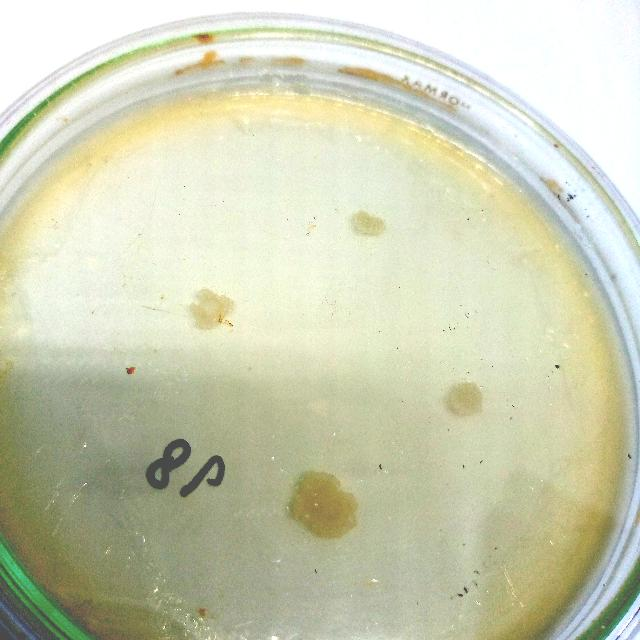colony: (280, 463, 368, 542), (185, 286, 238, 334), (440, 376, 486, 424), (343, 204, 393, 244)
